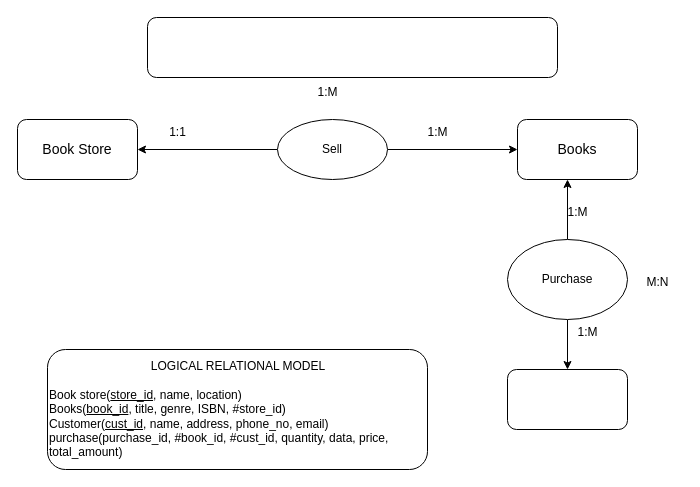
This 700x487 diagram has some shape labels left out. Each missing label, with the box of its shape:
BOOK STORE CONCEPTUAL MODEL: (146, 16, 558, 78)
Customer: (506, 368, 628, 430)
